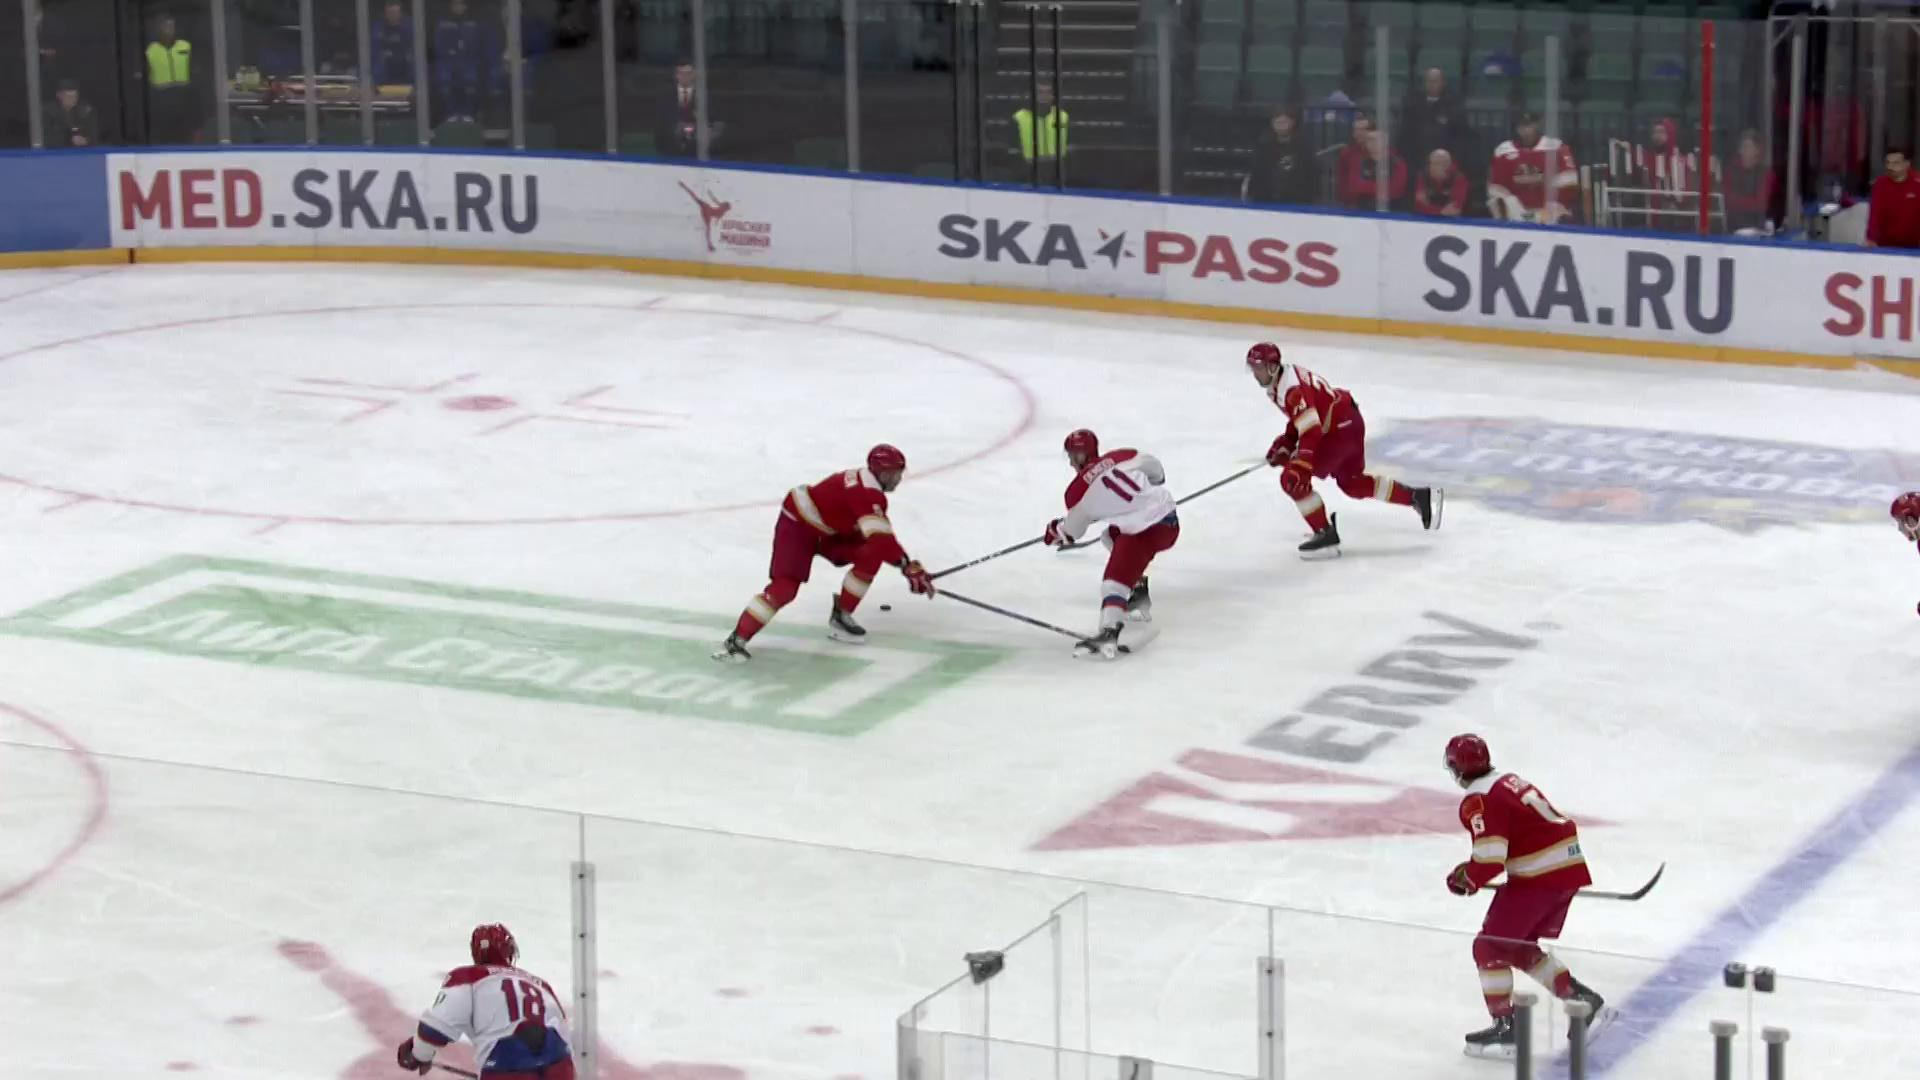ball: (877, 605, 894, 613)
